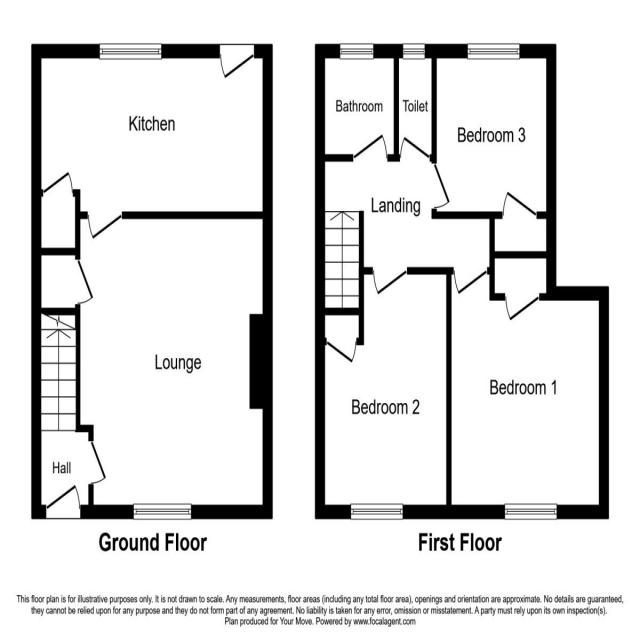DOOR: (44, 482, 82, 519), (218, 43, 255, 80), (351, 131, 389, 163), (371, 266, 409, 297), (452, 266, 489, 296), (86, 211, 123, 241), (431, 160, 452, 210), (75, 258, 95, 306), (399, 134, 431, 162), (88, 439, 107, 485)
ROOM: (75, 211, 273, 520), (31, 43, 273, 254), (446, 266, 609, 520), (314, 266, 452, 520), (431, 43, 557, 220)
WINDOW: (98, 42, 163, 61), (132, 503, 192, 521), (349, 502, 405, 521), (503, 502, 558, 521), (466, 42, 521, 61), (339, 43, 374, 60), (402, 43, 426, 60)
